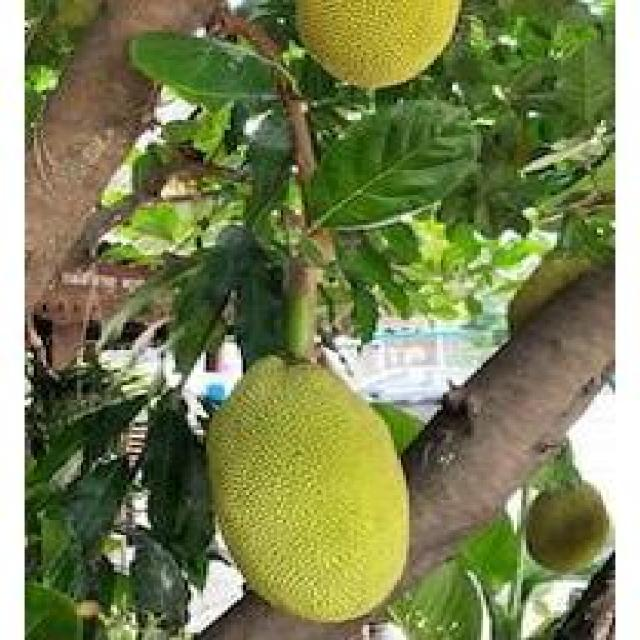Fruit: (188, 338, 437, 638), (274, 0, 483, 105)
